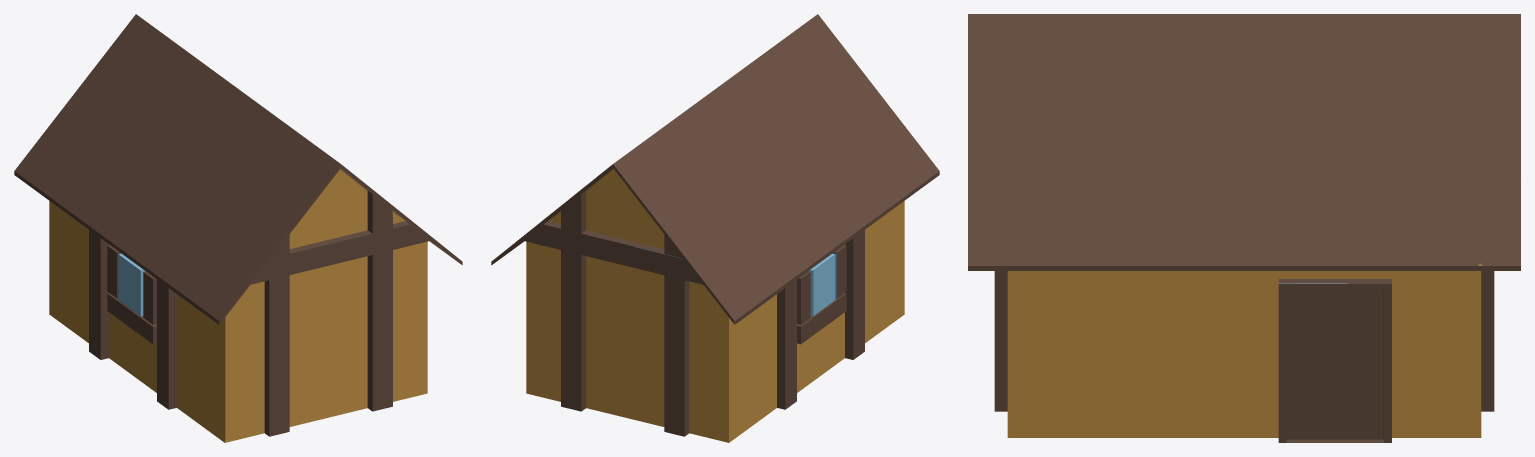
The model's file is house.glb.
3 views of the same model, side by side, from view 1: azimuth 30°, elevation 25°; view 2: azimuth 150°, elevation 25°; view 3: azimuth 270°, elevation 25° (orthographic). The views are drawn at different scales.
Parts seen in each view (by area): view 1: Cube; view 2: Cube; view 3: Cube.
Boxes of the visible parts, x1,y1,x2,y2 form: Cube: (14, 14, 462, 442); Cube: (491, 14, 939, 442); Cube: (968, 14, 1520, 442).
Size of the model in its own units: 2.4 by 2.5 by 3.5.
3 materials, 3 textured.
